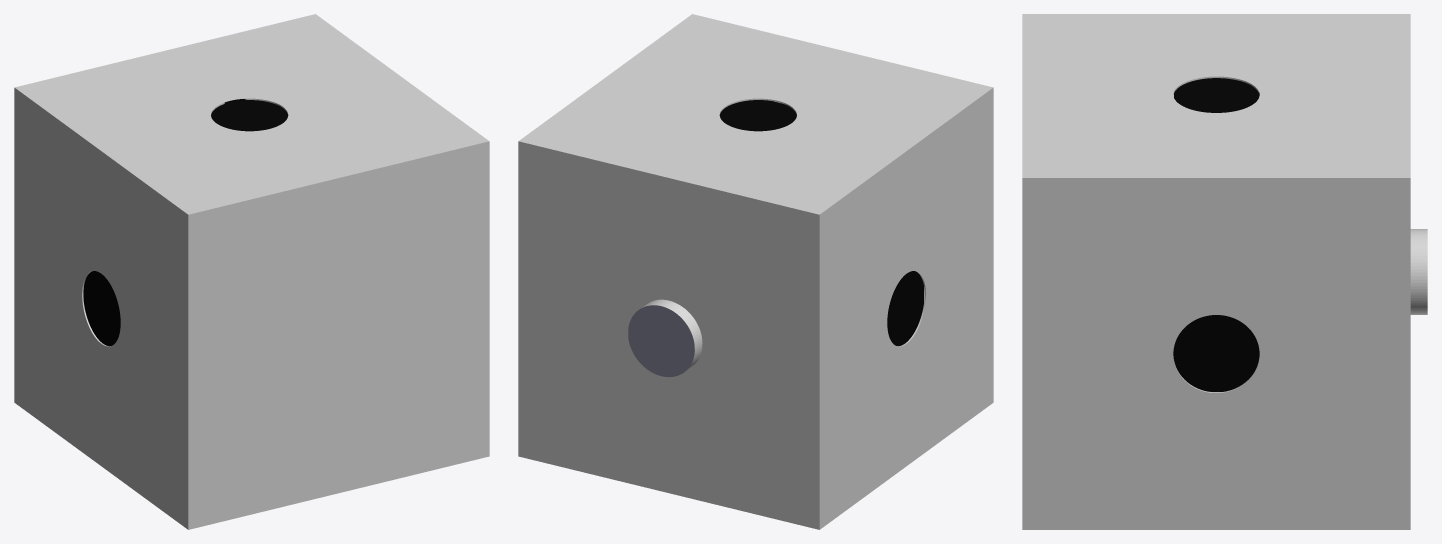
File: dice1.fbx
3 renders of one model, left to right at view 1: azimuth 30°, elevation 25°; view 2: azimuth 150°, elevation 25°; view 3: azimuth 270°, elevation 25°, orthographic. The views are drawn at different scales.
Parts seen in each view (by area): view 1: Dice1; view 2: Dice1; view 3: Dice1.
Part boxes in pixels (x1=…): Dice1: x1=14, y1=14, x2=489, y2=529; Dice1: x1=518, y1=14, x2=993, y2=529; Dice1: x1=1022, y1=14, x2=1427, y2=529.
Size of the model in its own units: 22.86 by 22.86 by 23.86.
